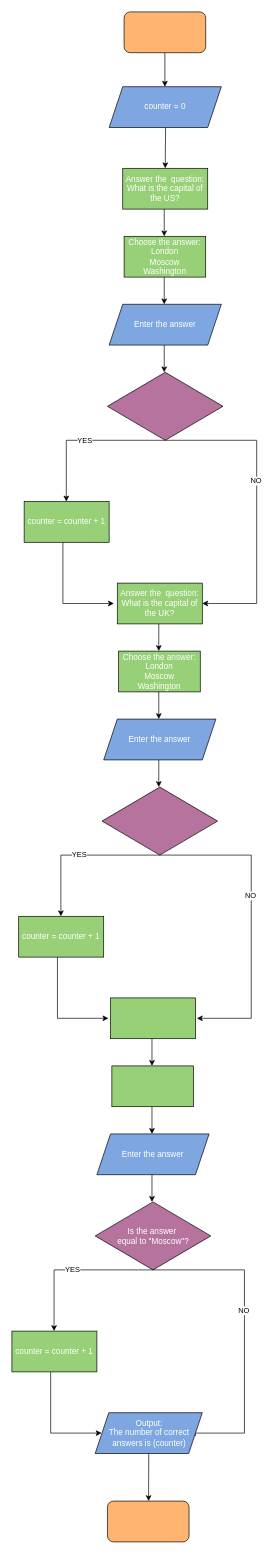
This 274x1554 diagram has some shape labels left out. Here are the shapes that lost their labels. From the top down, the centre of each, then its label:
(x=164, y=32): Start
(x=165, y=406): Is the answer equal to "Washington"?
(x=159, y=820): Is the answer equal to "London"?
(x=153, y=1018): Answer the question: What is the capital of Russia?
(x=152, y=1086): Choose the answer: 1 - London 2 - Moscow 3 - Washington
(x=148, y=1521): End
